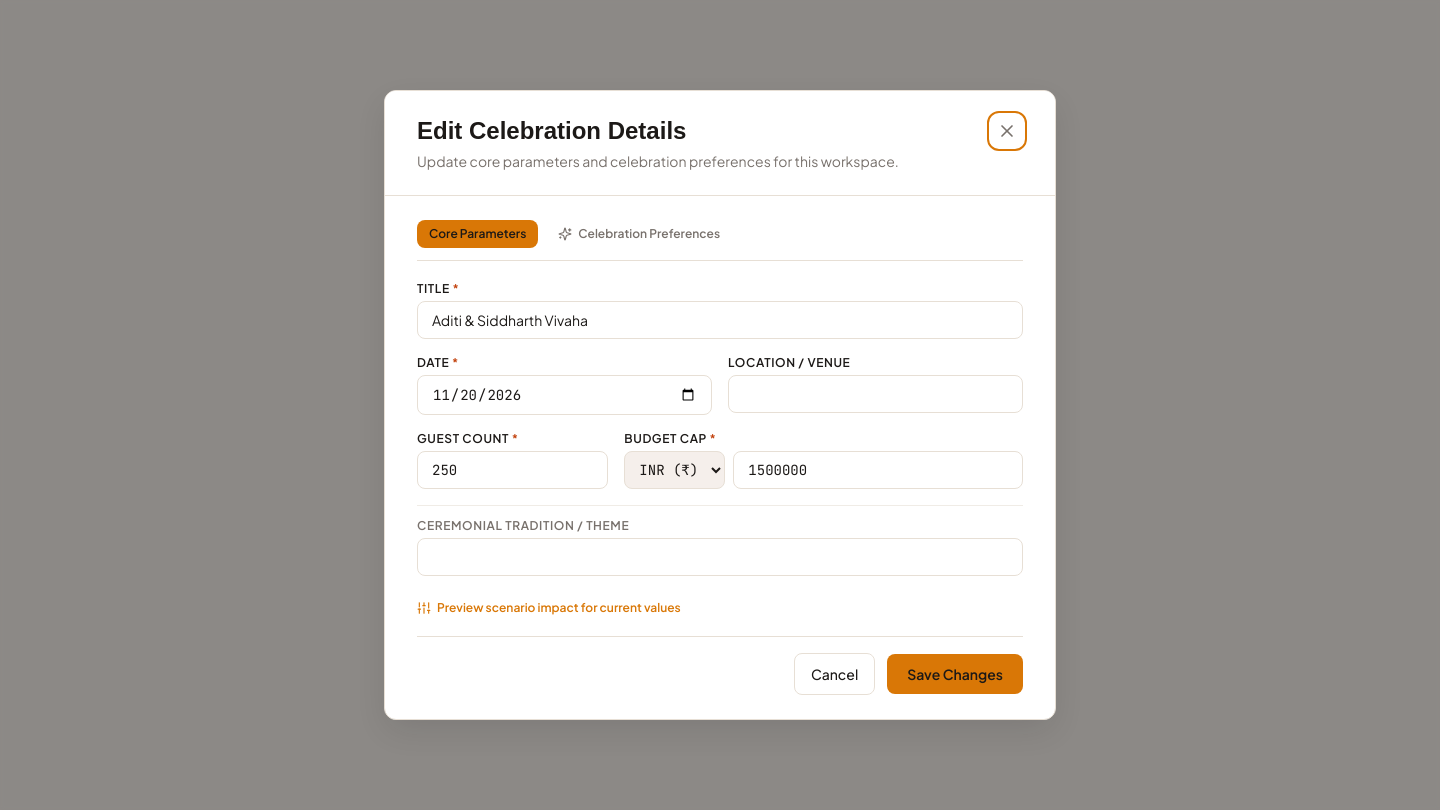
EventEditDialog Component › passes expectedUpdatedAt and blocks save when CONCURRENCY_CONFLICT occurs (W3-01)
What coordinates should you click on to do the following:
click the button "Save Changes"
I would click on:
 (955, 674)
Its box is [887, 654, 1023, 694].
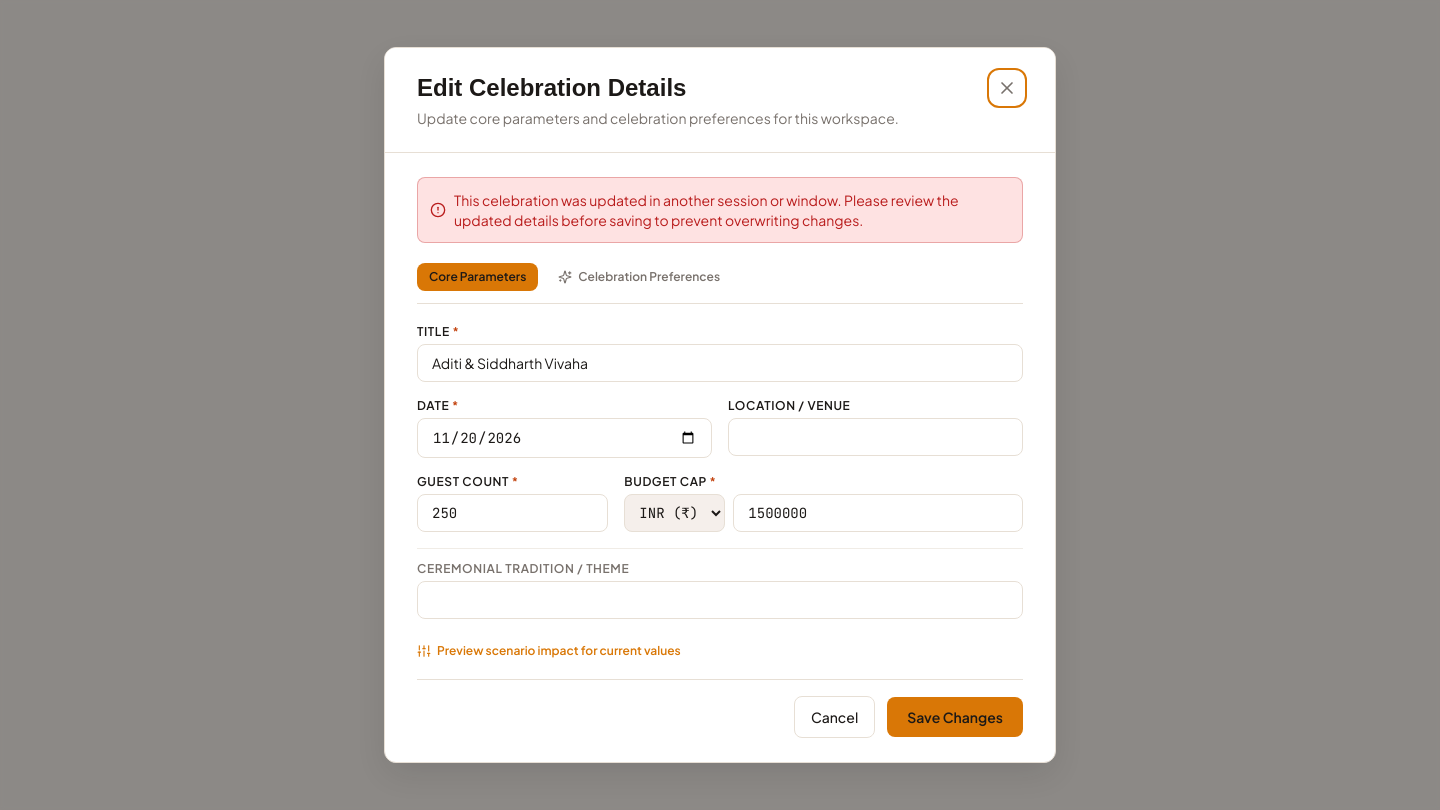
Result: the text "updated in another session or window" is shown at [454, 191, 959, 229]
